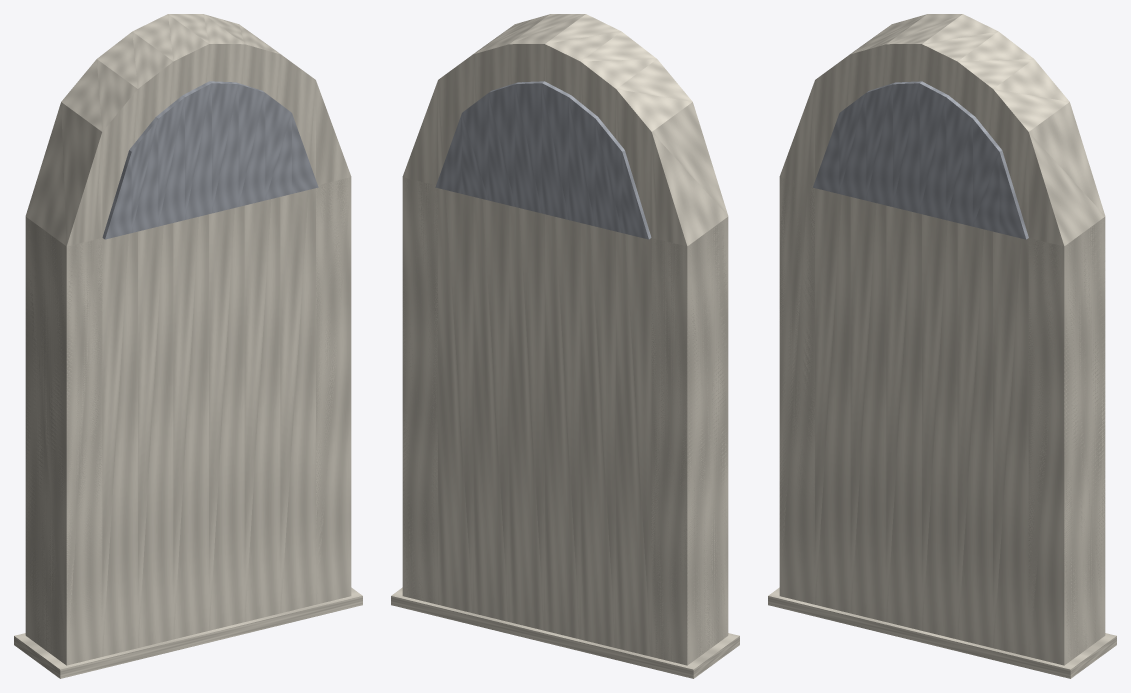
File: door_fixed.glb
3 renders of one model, left to right at view 1: azimuth 30°, elevation 25°; view 2: azimuth 150°, elevation 25°; view 3: azimuth 330°, elevation 25°, orthographic.
Parts seen in each view (by area): view 1: postern-door; view 2: postern-door; view 3: postern-door.
Part boxes in pixels (left/top/right/bottom): postern-door: left=14, top=14, right=362, bottom=678; postern-door: left=391, top=14, right=739, bottom=678; postern-door: left=768, top=14, right=1116, bottom=678.
Size of the model in its own units: 1.7 by 3.2 by 0.4501.
Materials: 4 (3 with a texture image).
